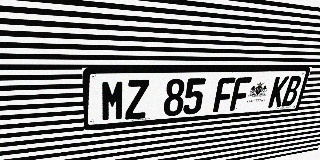5: (183, 78, 206, 115)
8: (163, 78, 187, 117)
B: (281, 76, 303, 107)
F: (213, 77, 236, 112), (229, 77, 252, 111)
K: (268, 76, 289, 108)
M: (101, 80, 125, 122)
Z: (125, 79, 149, 120)
